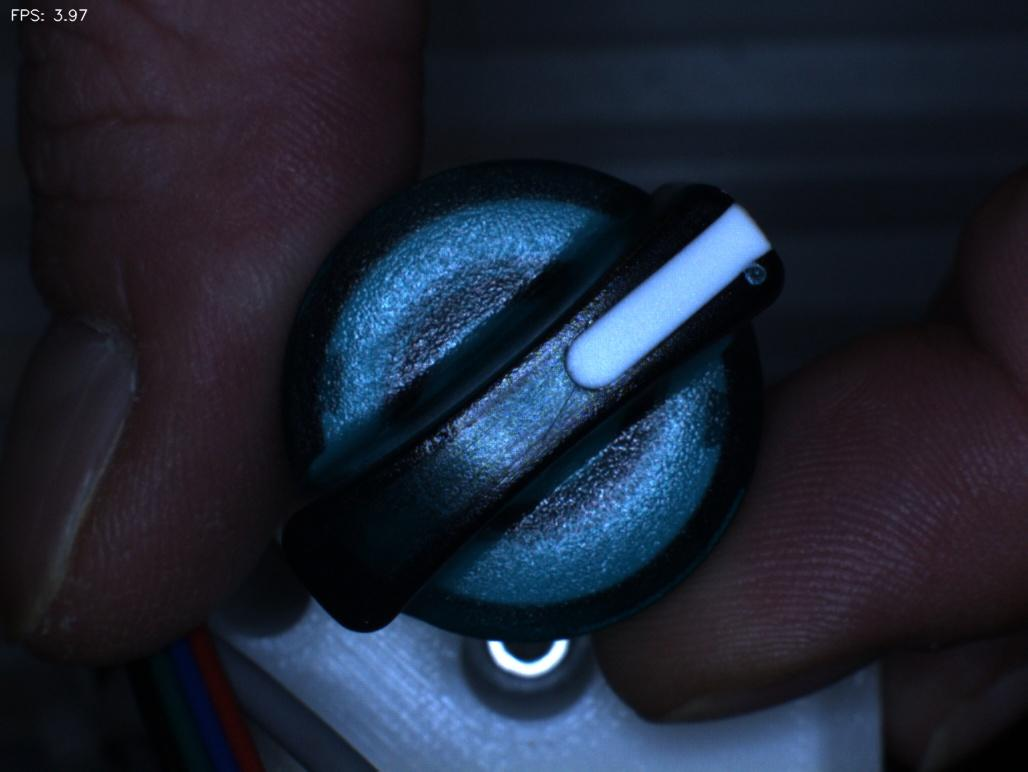Choc: (727, 241, 801, 324)
